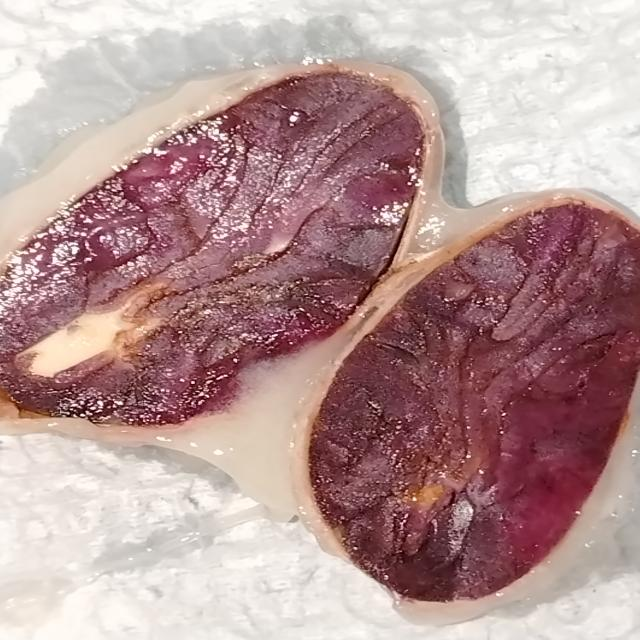Forastero: (301, 204, 640, 597)
